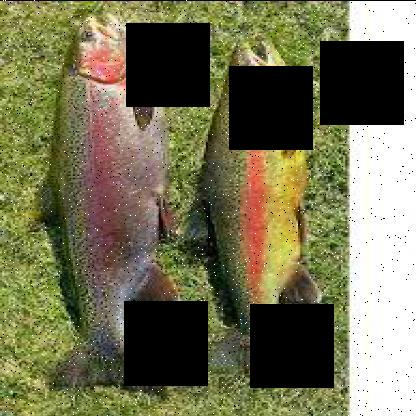fish: (30, 10, 178, 404), (183, 40, 320, 386)
